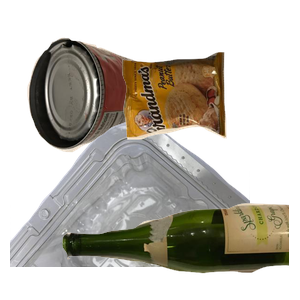glass: (60, 201, 300, 300)
metal: (25, 35, 189, 180)
plastic: (10, 120, 250, 300)
trash: (120, 50, 300, 182)
